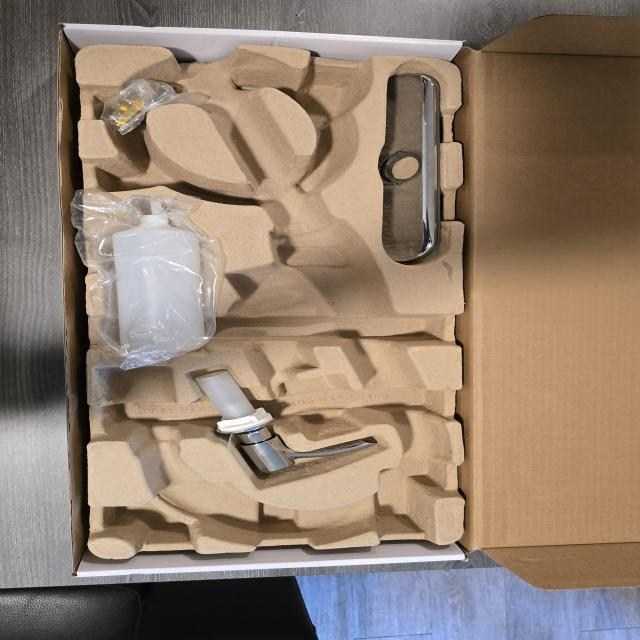1m: (101, 49, 447, 543)
2: (196, 371, 371, 476)
3: (110, 199, 204, 352)
4: (379, 74, 441, 262)
5m: (296, 72, 370, 127)
6: (97, 77, 207, 131)
7m: (91, 139, 215, 203)
